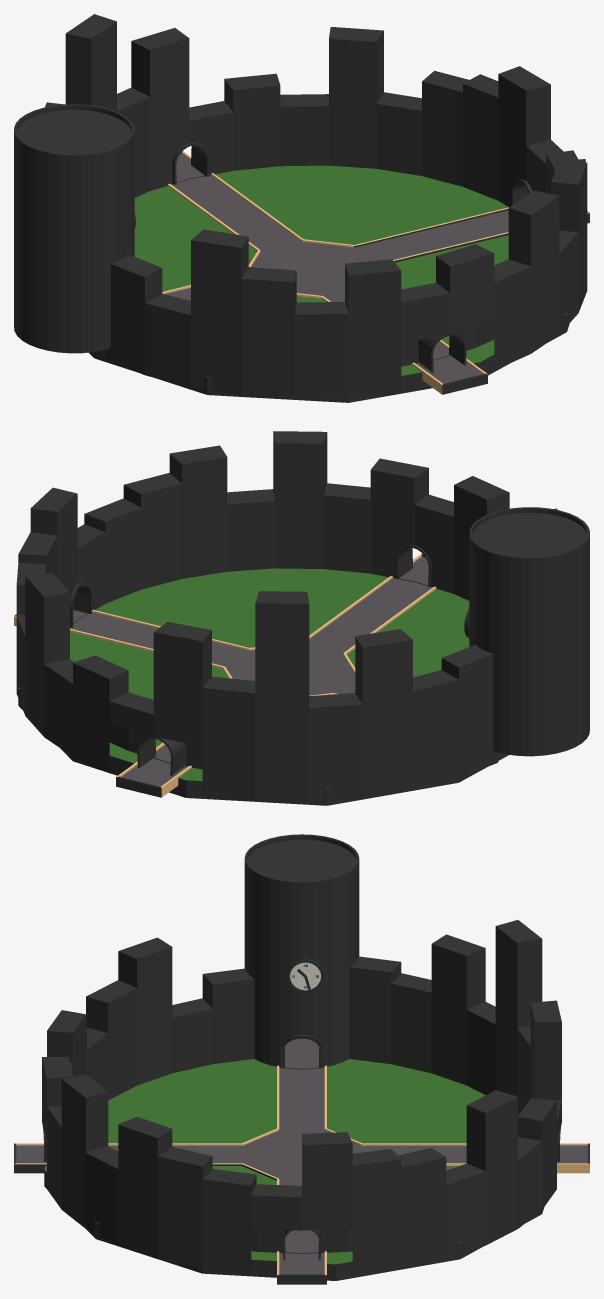
3 views of the same model, one above another, from view 1: azimuth 30°, elevation 25°; view 2: azimuth 150°, elevation 25°; view 3: azimuth 270°, elevation 25° (orthographic). The views are drawn at different scales.
Parts seen in each view (by area): view 1: square, floor, tower; view 2: square, floor, tower; view 3: square, floor, tower, clock.
Part boxes in pixels (x1=…): square: x1=45, y1=14, x2=587, y2=398; floor: x1=89, y1=151, x2=589, y2=402; tower: x1=14, y1=104, x2=134, y2=353; square: x1=16, y1=431, x2=557, y2=801; floor: x1=14, y1=554, x2=508, y2=805; tower: x1=469, y1=507, x2=589, y2=756; square: x1=42, y1=920, x2=561, y2=1275; floor: x1=14, y1=1038, x2=589, y2=1284; tower: x1=244, y1=834, x2=359, y2=1069; clock: x1=287, y1=959, x2=323, y2=993.
Bounding box in the file's own units: 233 × 86.54 × 222.
